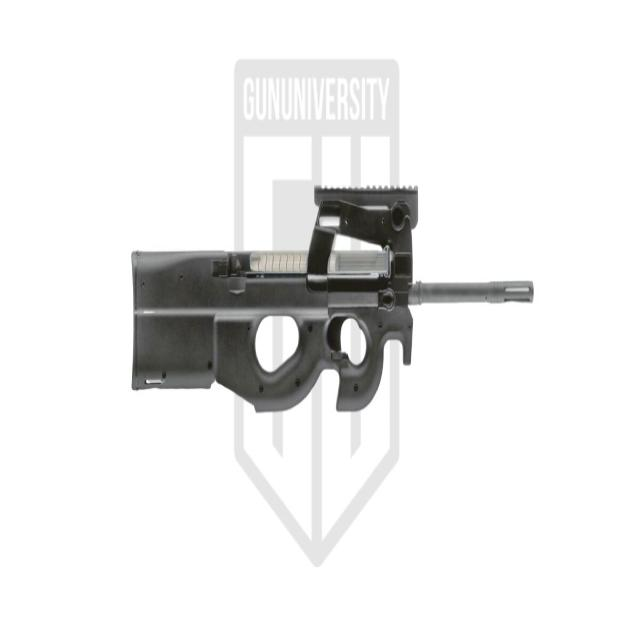SMG: (131, 188, 535, 418)
